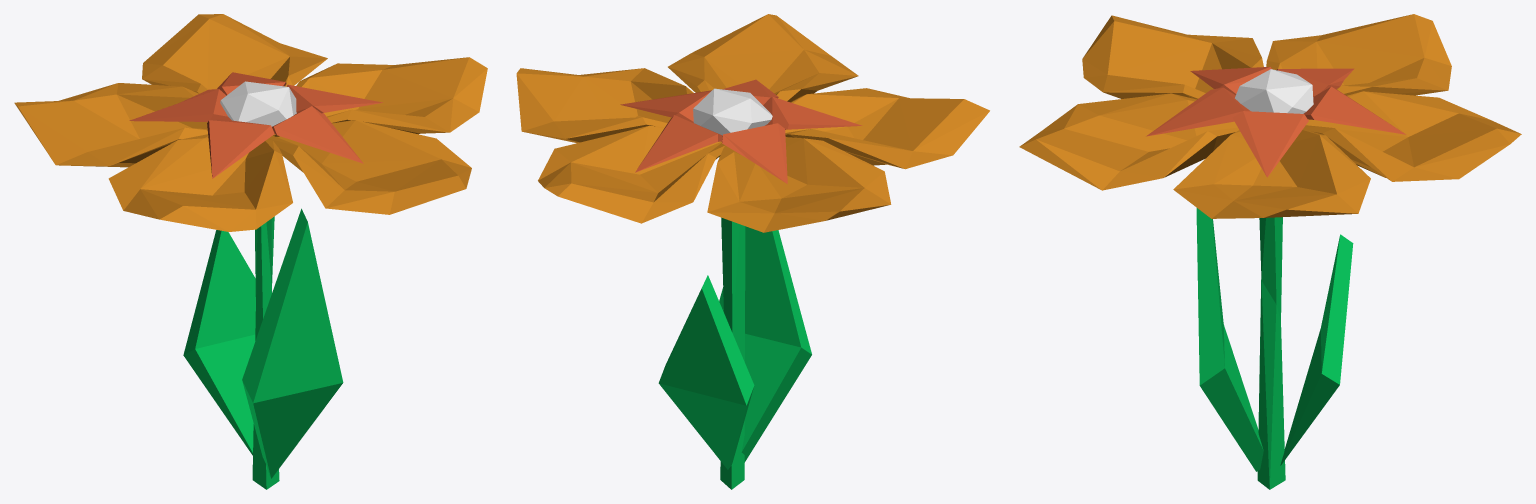
File: Flower05.fbx
3 views of the same model, side by side, from view 1: azimuth 30°, elevation 25°; view 2: azimuth 150°, elevation 25°; view 3: azimuth 270°, elevation 25° (orthographic). The views are drawn at different scales.
Visible parts, largest first — view 1: Cube.002; view 2: Cube.002; view 3: Cube.002.
Part boxes in pixels (<box>): Cube.002: <box>14,14,487,489</box>; Cube.002: <box>516,14,989,489</box>; Cube.002: <box>1019,14,1521,489</box>.
Bounding box in the file's own units: 28.93 × 26.99 × 30.35.
